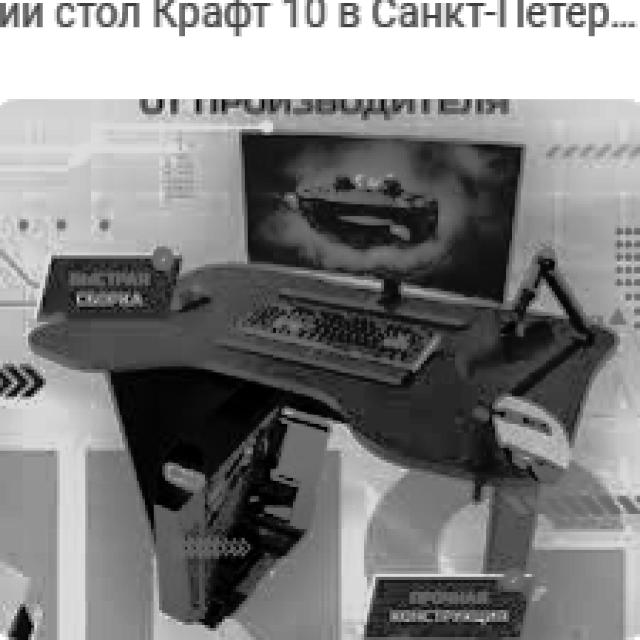table: (26, 258, 617, 637)
